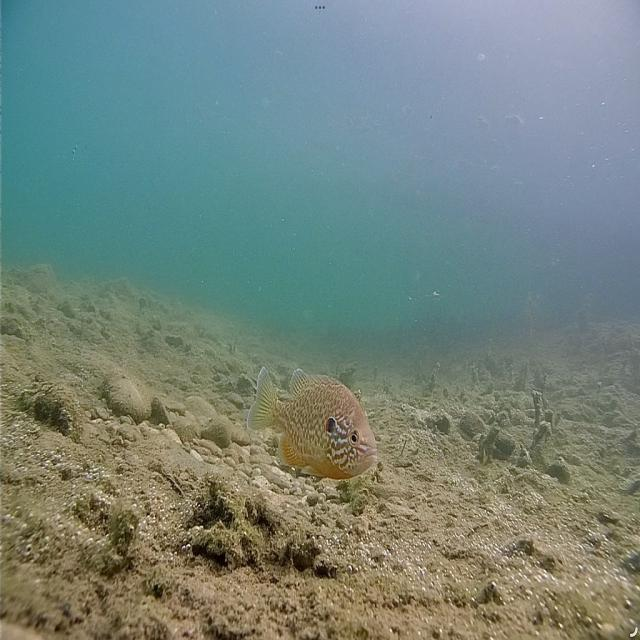Gunes Levregi: (244, 364, 380, 481)
